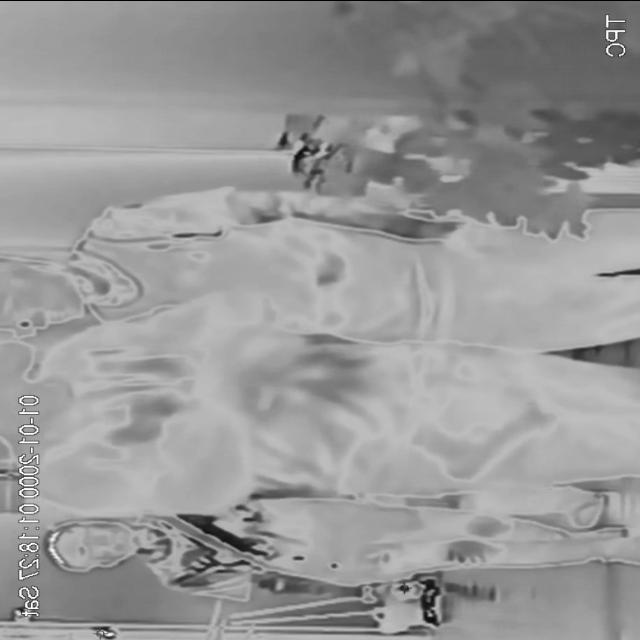Weapon: (408, 398, 558, 487)
